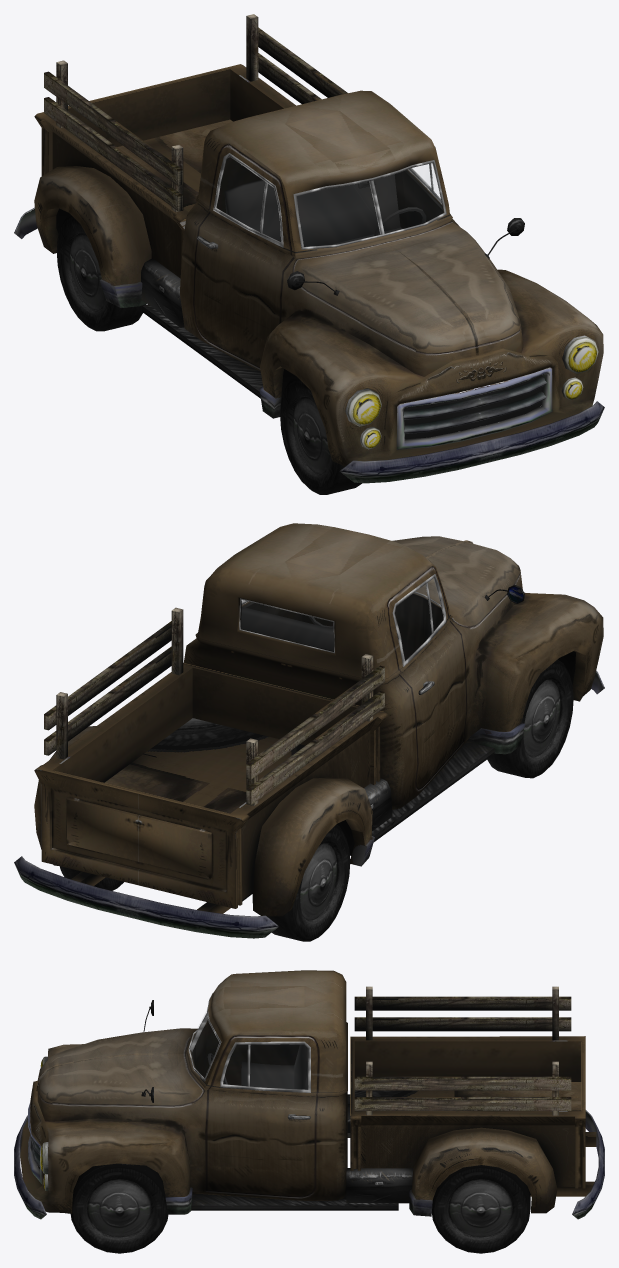
File: pickup.fbx
3 renders of one model, top to bottom at view 1: azimuth 30°, elevation 25°; view 2: azimuth 150°, elevation 25°; view 3: azimuth 270°, elevation 25°, orthographic. The views are drawn at different scales.
Parts seen in each view (by area): view 1: carrosserie, interior, phares; view 2: carrosserie, interior; view 3: carrosserie, interior.
Part boxes in pixels (bbox=[...]): carrosserie: bbox=[14, 14, 604, 494]; interior: bbox=[224, 174, 426, 246]; phares: bbox=[351, 341, 597, 424]; carrosserie: bbox=[14, 523, 604, 941]; interior: bbox=[241, 607, 334, 651]; carrosserie: bbox=[14, 970, 604, 1253]; interior: bbox=[207, 1044, 308, 1089].
Size of the model in its own units: 200 by 186 by 469.
